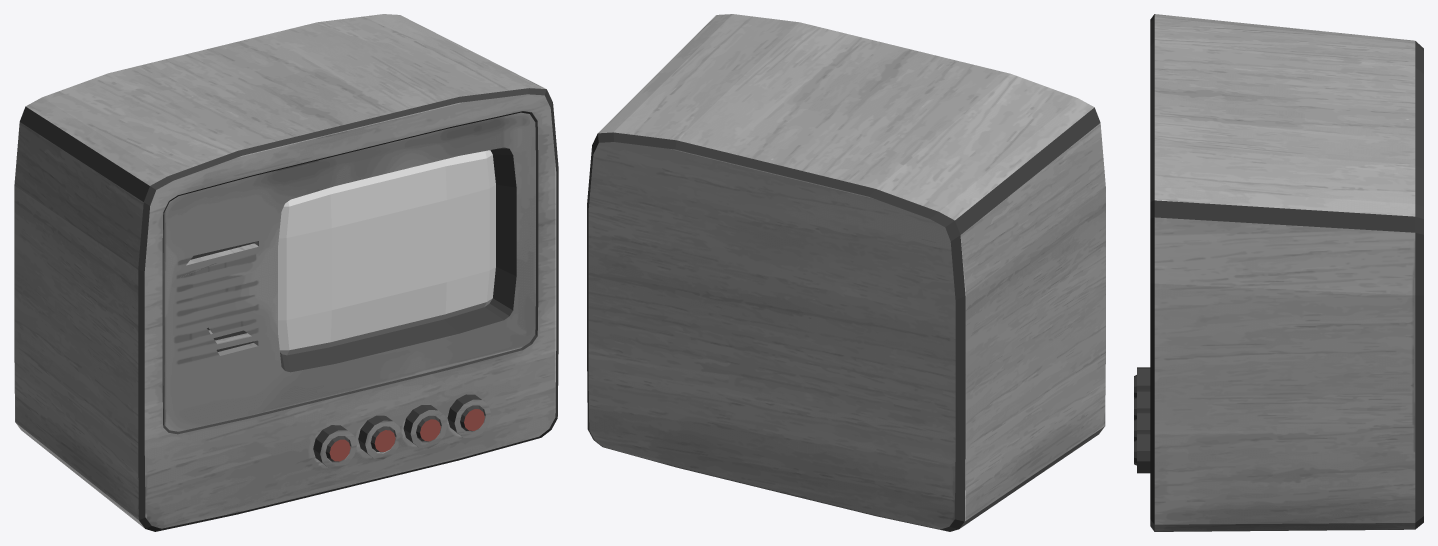
File: 02_Fernseher.fbx
The picture shows the model from 3 angles, left to right: view 1: azimuth 30°, elevation 25°; view 2: azimuth 150°, elevation 25°; view 3: azimuth 270°, elevation 25°; orthographic projection. The views are drawn at different scales.
Parts seen in each view (by area): view 1: Fernseher; view 2: Fernseher; view 3: Fernseher.
Boxes of the visible parts, x1,y1,x2,y2 form: Fernseher: (14, 14, 558, 531); Fernseher: (587, 14, 1105, 531); Fernseher: (1134, 14, 1423, 531).
Size of the model in its own units: 381 by 317 by 236.
